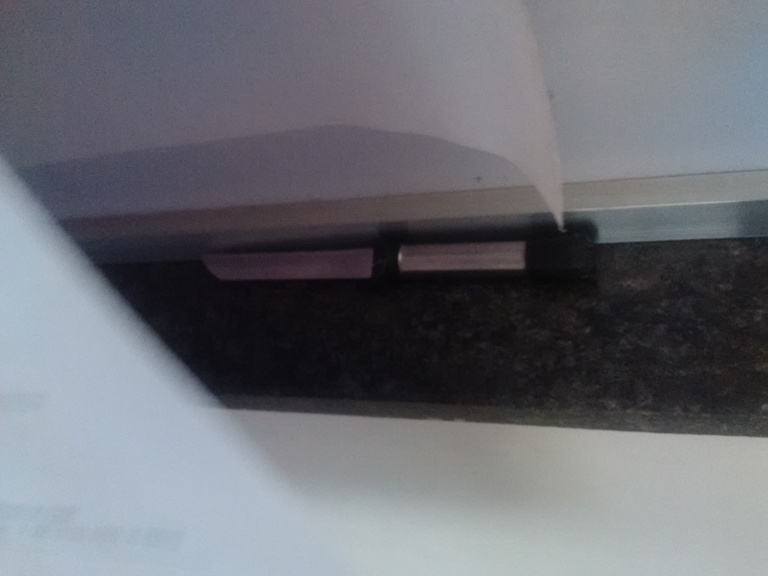knife: (203, 239, 577, 282)
